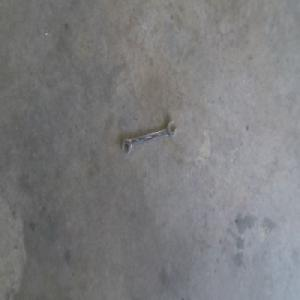Wrench: (121, 120, 177, 155)
